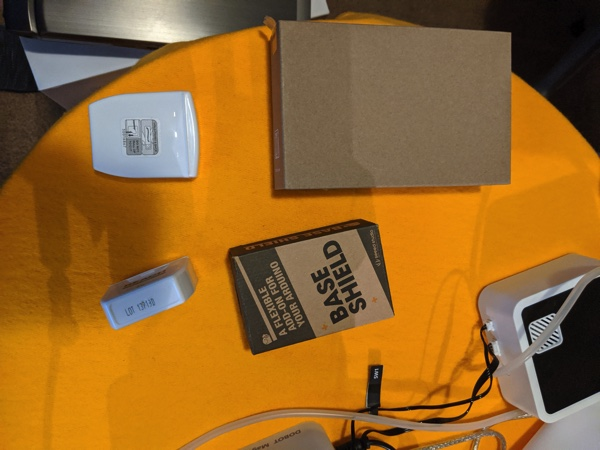cardboard: (258, 7, 542, 205), (221, 214, 408, 361)
plastic: (80, 80, 210, 193), (96, 238, 205, 340)
